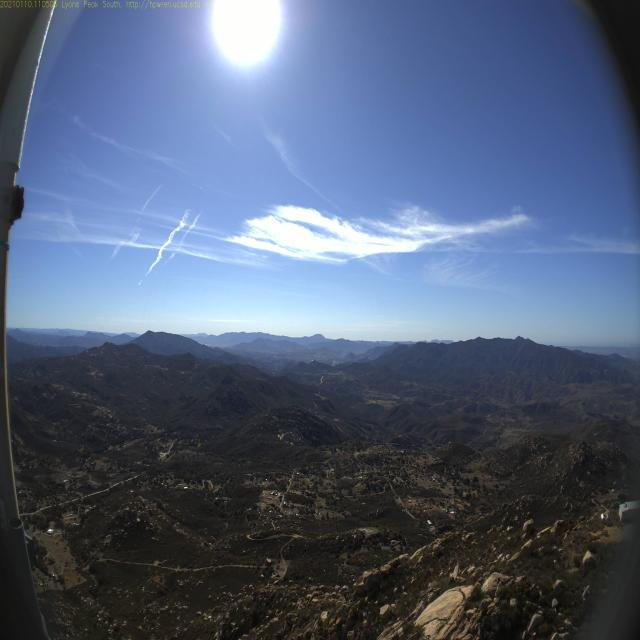smoke: (330, 349, 350, 370)
